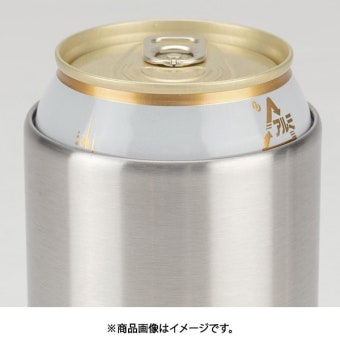paper: (20, 19, 324, 307)
